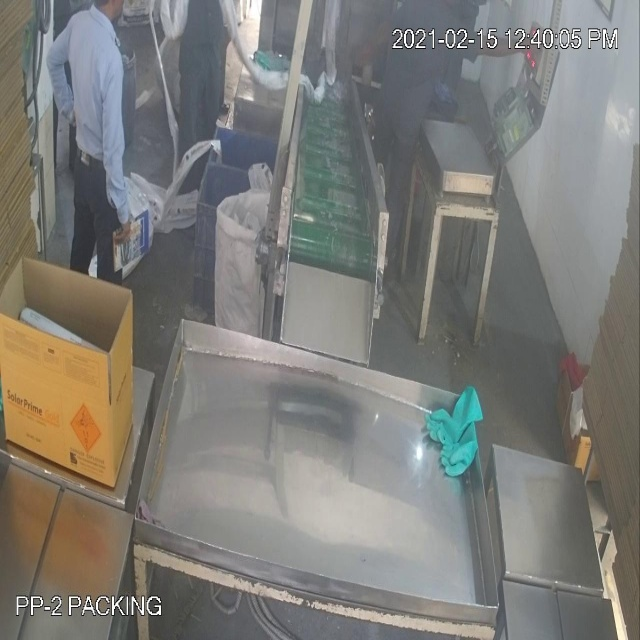Guantes: (419, 376, 487, 484)
Sin_guantes: (100, 48, 139, 244)
